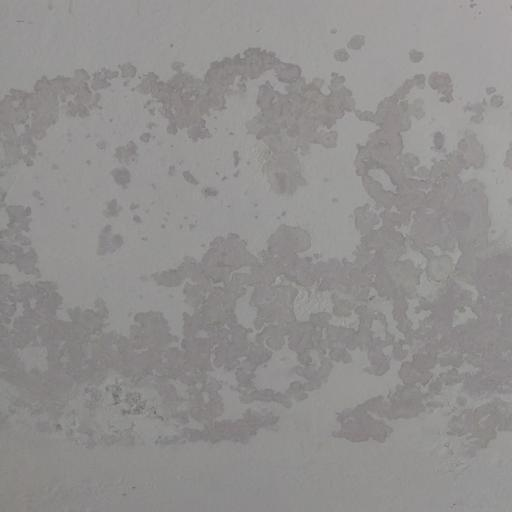peeling: (6, 38, 512, 470)
